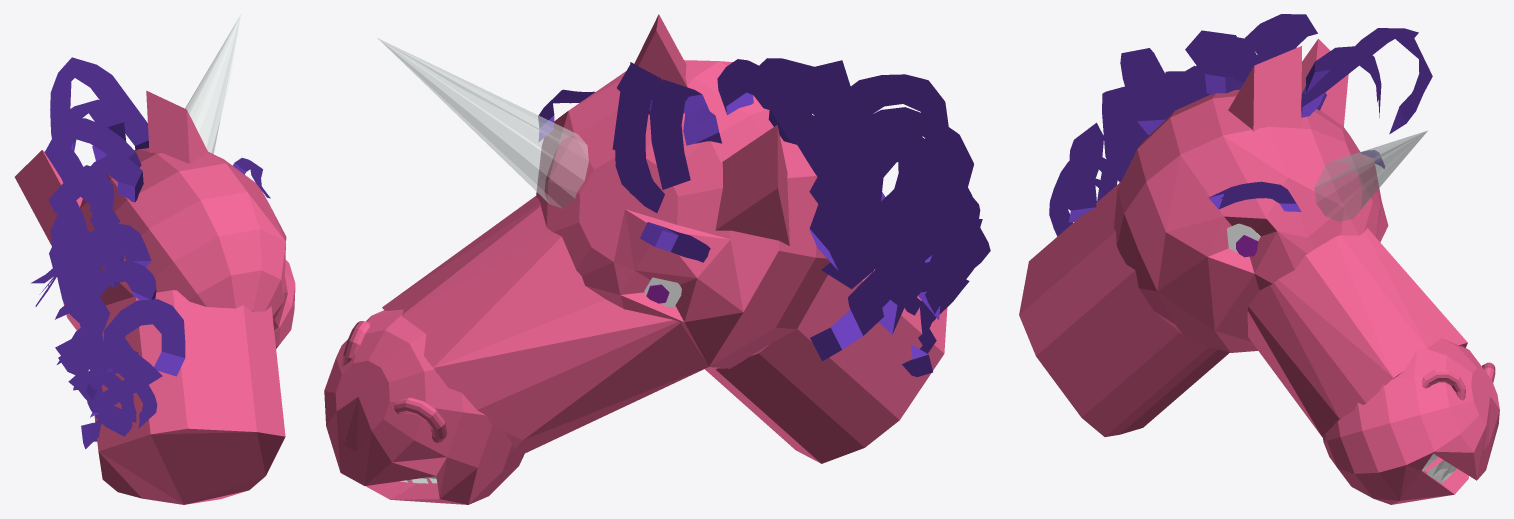
The model's file is first-unicorn-model-by-marc-barnes-cXaZd2xiD0z.glb.
3 renders of one model, left to right at view 1: azimuth 30°, elevation 25°; view 2: azimuth 150°, elevation 25°; view 3: azimuth 270°, elevation 25°, orthographic. The views are drawn at different scales.
Parts seen in each view (by area): view 1: Node; view 2: Node; view 3: Node.
Boxes of the visible parts, <box> form: Node: <box>14,15,295,504</box>; Node: <box>324,14,990,504</box>; Node: <box>1019,14,1499,504</box>.
Bounding box in the file's own units: 2.05 × 2.03 × 2.18.
